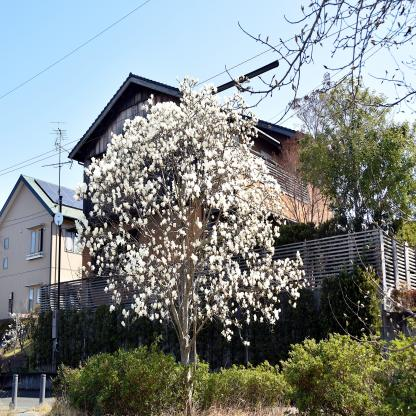Mokuren: (73, 74, 308, 348)
